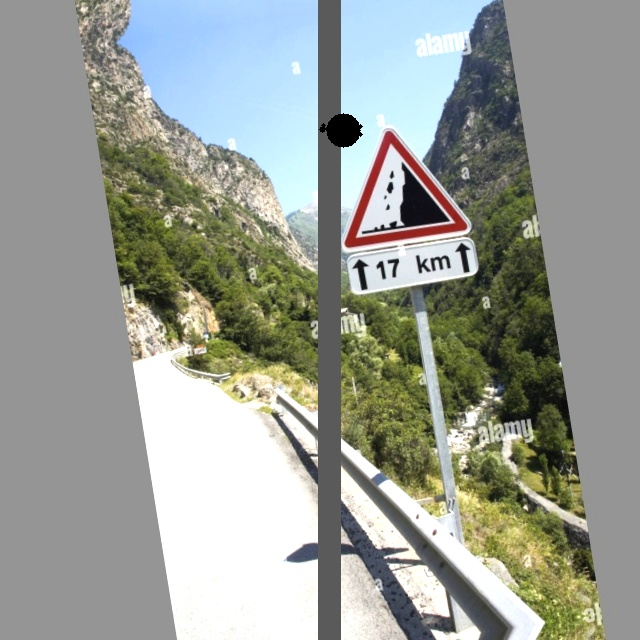Falling_Rocks: (327, 117, 468, 252)
